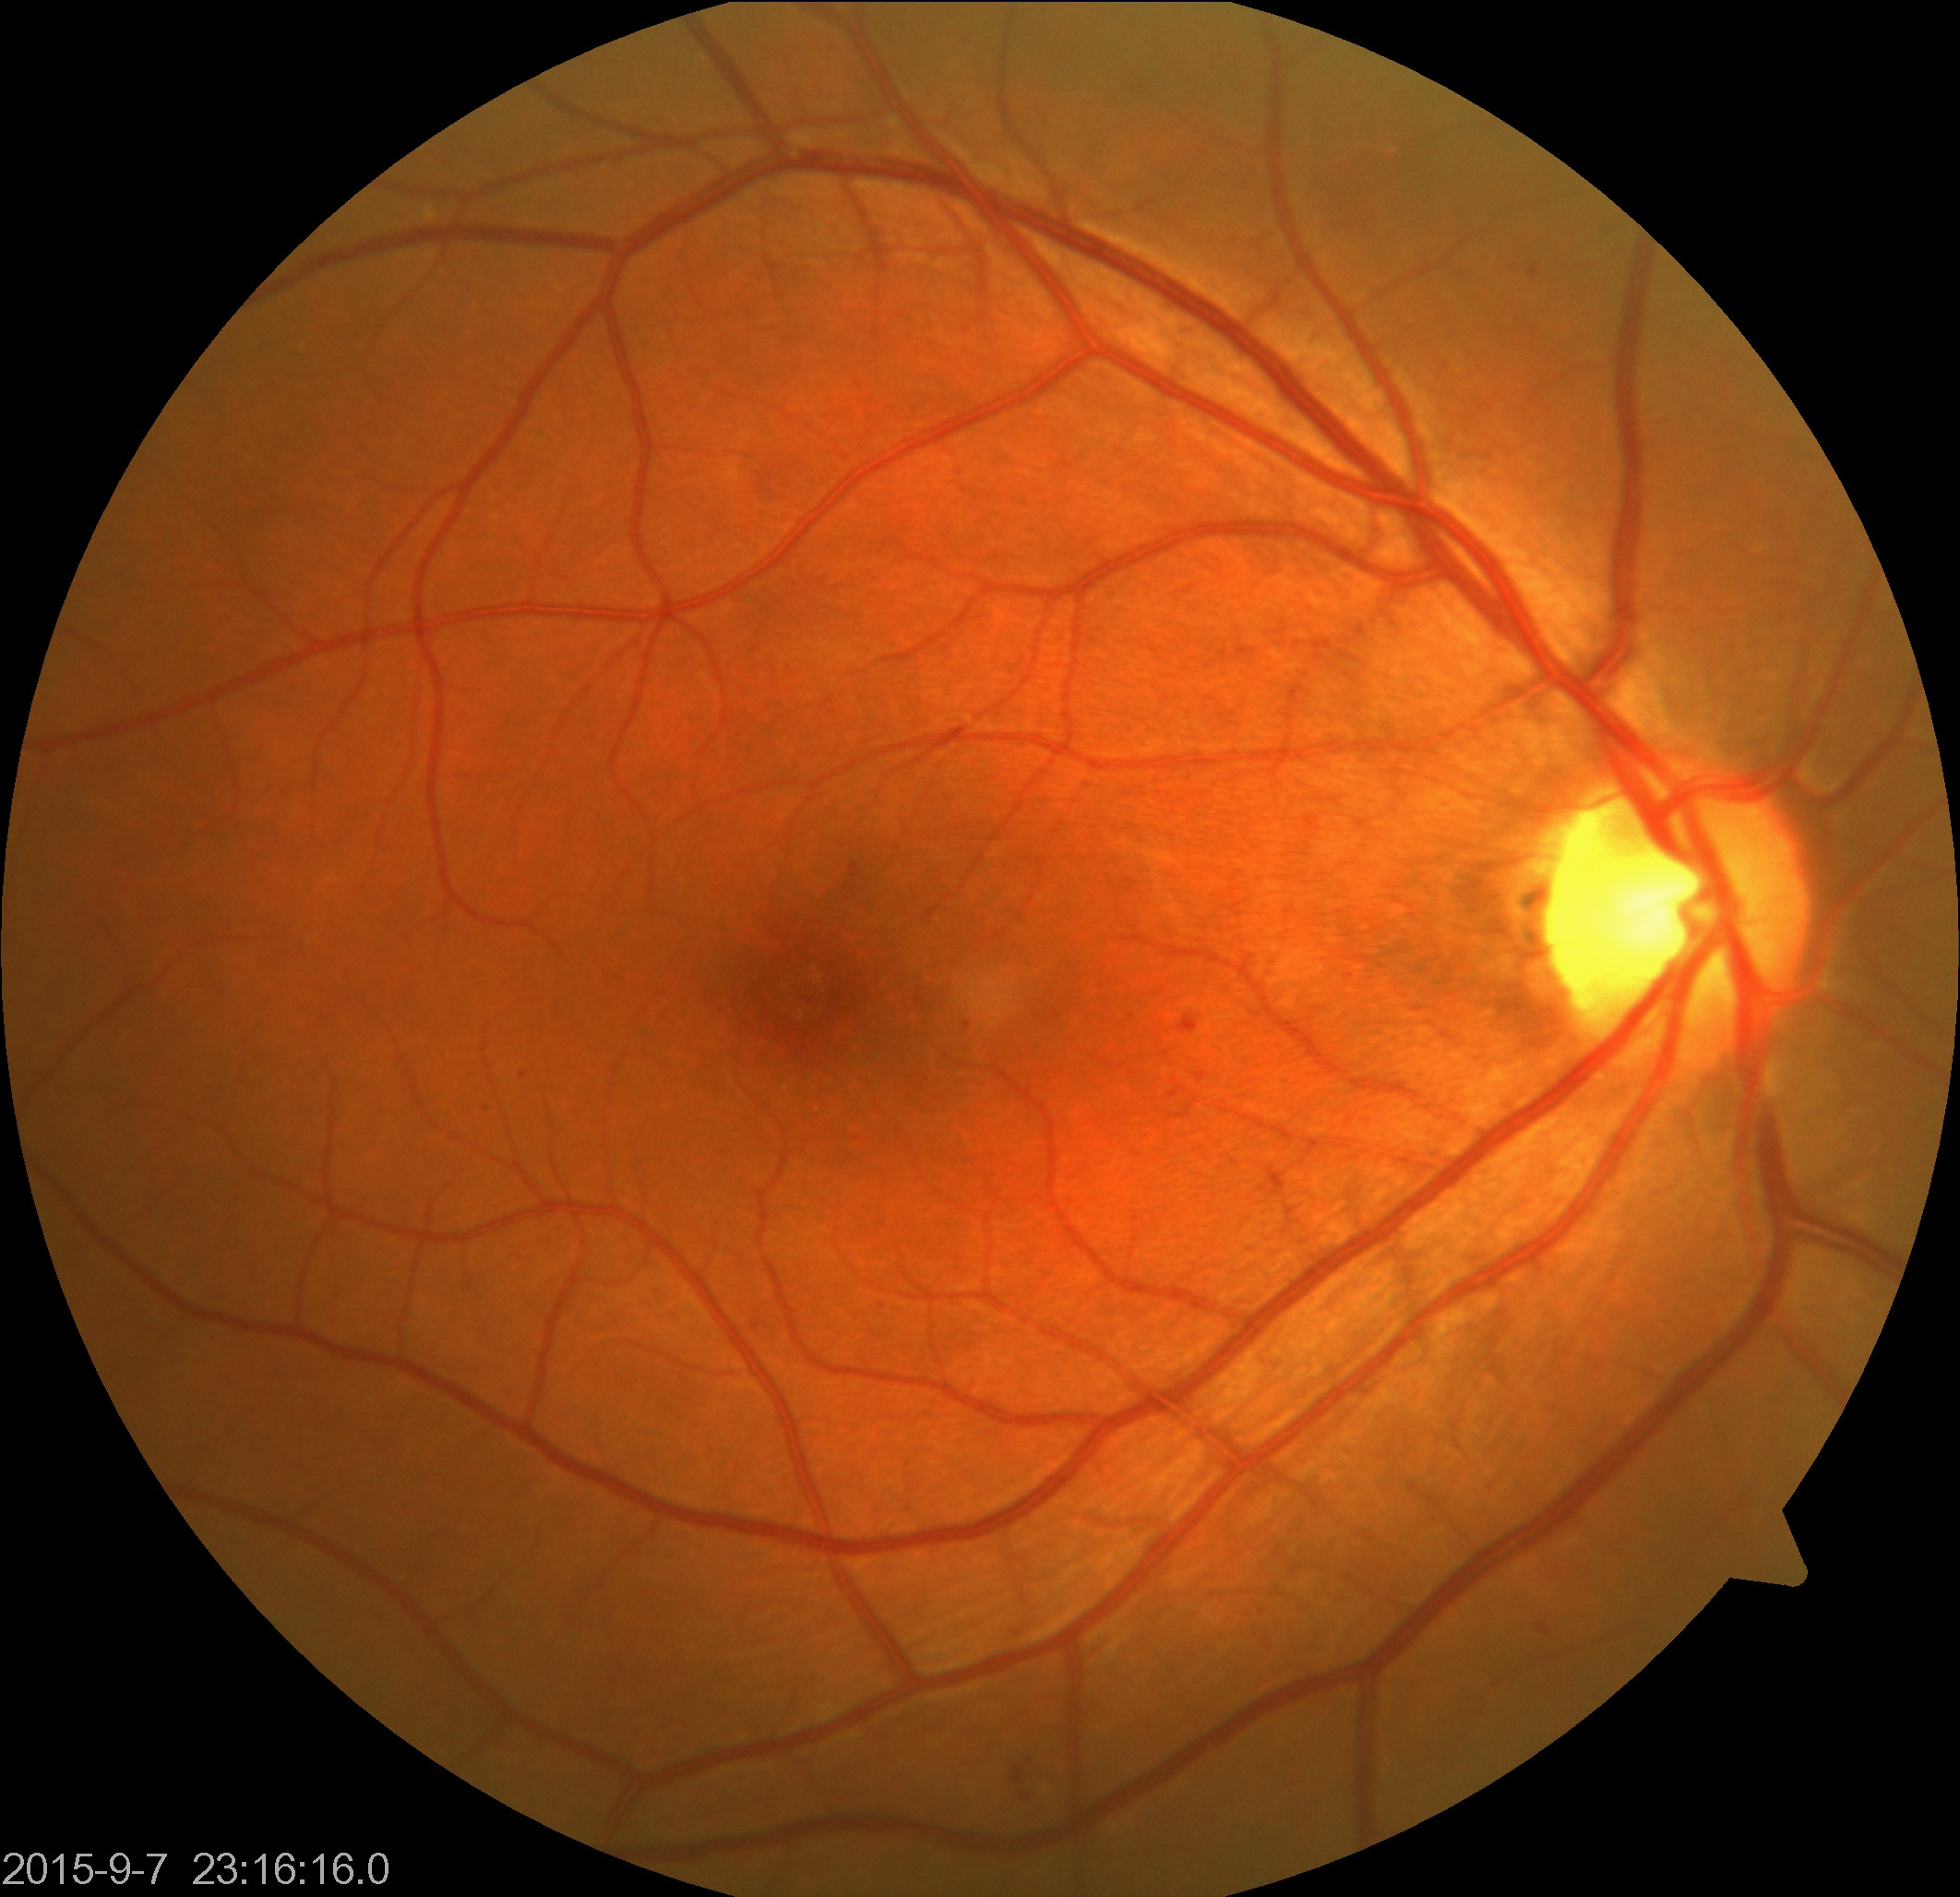Glaucoma section-1: (1566, 837, 1694, 1006)
Glaucoma section-2: (1526, 759, 1815, 1057)
